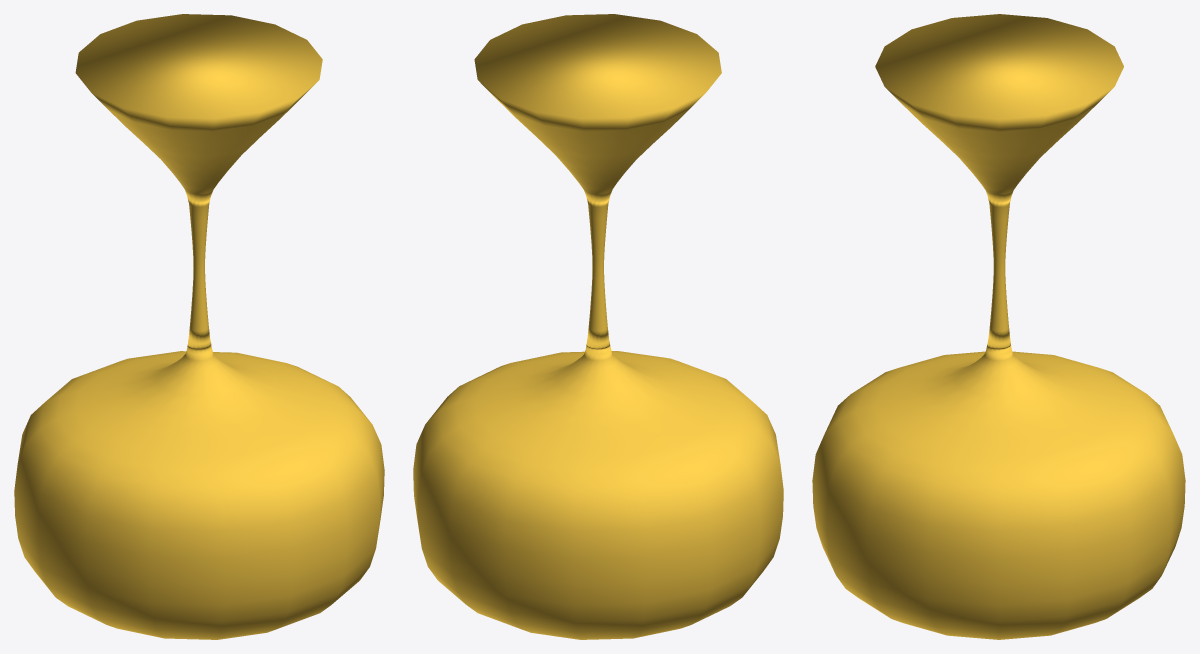
File: arena.obj
3 views of the same model, side by side, from view 1: azimuth 30°, elevation 25°; view 2: azimuth 150°, elevation 25°; view 3: azimuth 270°, elevation 25° (orthographic).
Parts seen in each view (by area): view 1: Plane.003; view 2: Plane.003; view 3: Plane.003.
Part boxes in pixels (<box>): Plane.003: <box>14,14,384,639</box>; Plane.003: <box>413,14,783,639</box>; Plane.003: <box>812,14,1185,639</box>.
Bounding box in the file's own units: 0.7476 × 1.18 × 0.7476.
